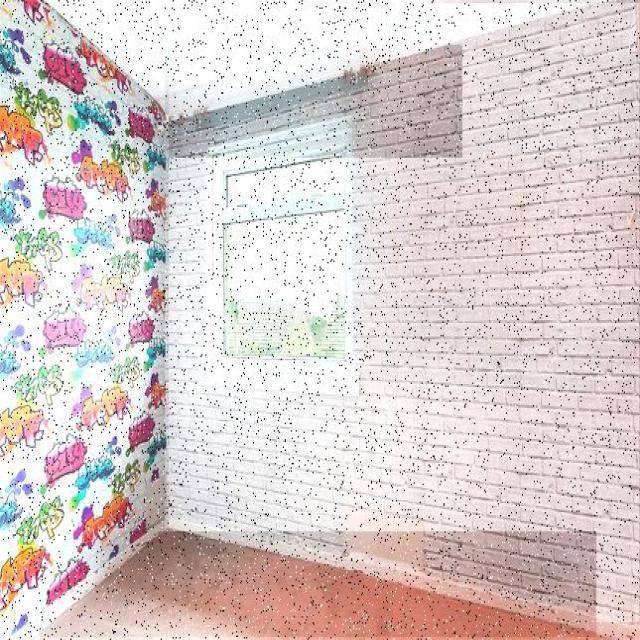Wall: (169, 3, 640, 622), (0, 0, 165, 636), (50, 0, 600, 115), (40, 532, 592, 637), (169, 46, 462, 158)
